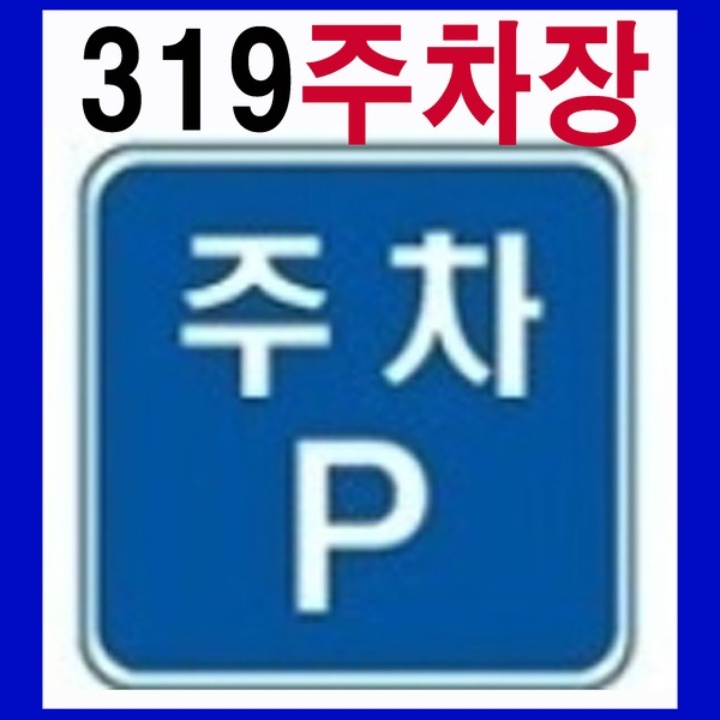park: (271, 423, 442, 634)
